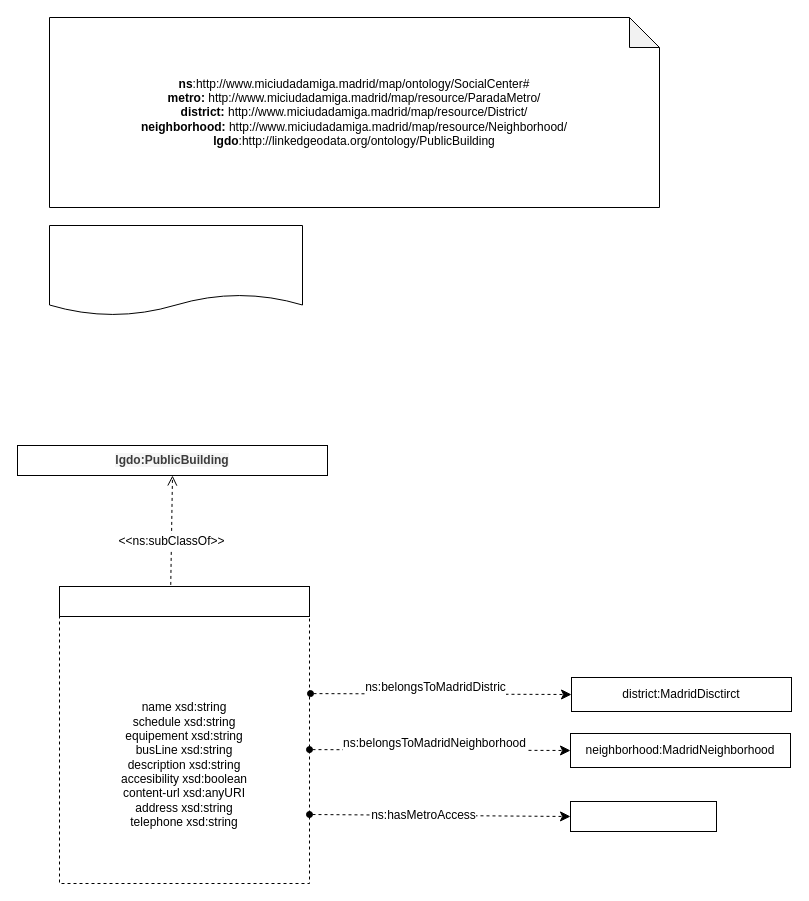
The diagram is 809 pixels wide and 901 high, and some of its shapes have lost their labels. Each missing label, with the box of its shape:
dc:creator: Group21 owl:versionInfo: 0.1.0 dc:title: Social Center Ontology: (48, 224, 302, 316)
metro:SubwayStation: (570, 800, 716, 832)
ns:SocialCenter: (58, 586, 310, 616)
